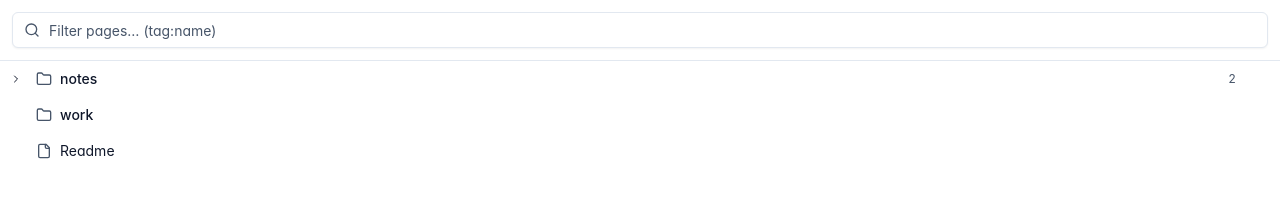
FolderTree › filters folders and pages by text and tag
Type "daily" into the field with placeholder "Filter pages… (tag:name)". click: (640, 30)
box: x1=12 y1=12 x2=1268 y2=48
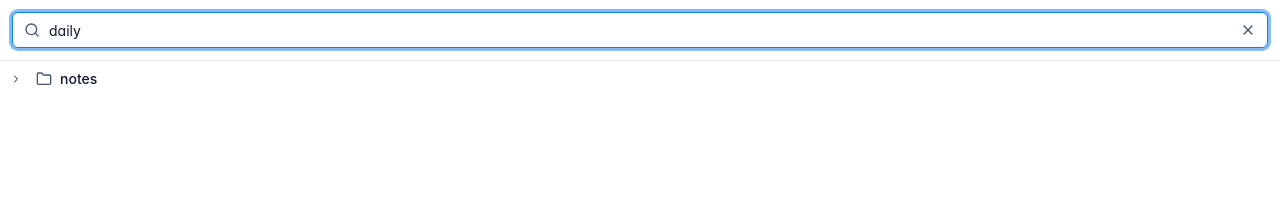
expect the button with aria-label "Open folder notes" is shown: met, box x1=32 y1=67 x2=1240 y2=91
expect the text "Open folder work" is gone: met
Click the button named "Expand folder". click: (16, 79)
box: x1=8 y1=71 x2=24 y2=87
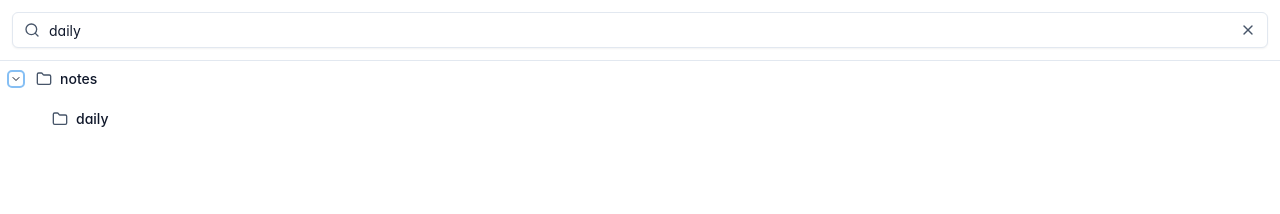
expect the text "Alpha" is not shown: met
expect the button with aria-label "Open folder daily" is shown: met, box x1=48 y1=107 x2=1240 y2=131
Replace the text in the field with placeholder "Filter pages… (tag:name)" with "tag:proj". click: (640, 30)
box: x1=12 y1=12 x2=1268 y2=48
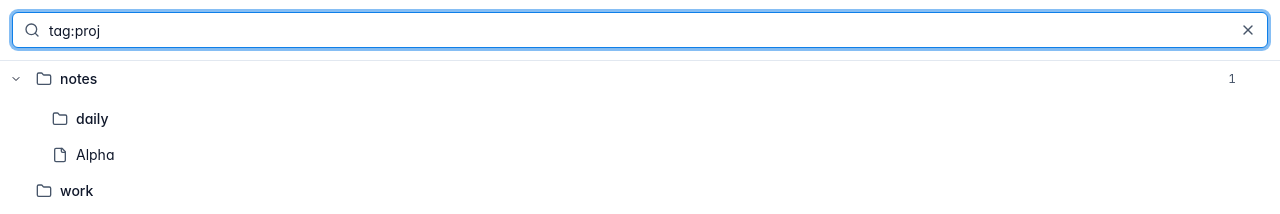
expect the text "Alpha" is shown: met, box x1=76 y1=145 x2=114 y2=165
expect the button "Beta" is gone: met
Replace the text in the field with placeholder "Filter pages… (tag:name)" with "zzz-nothing". click: (640, 30)
box: x1=12 y1=12 x2=1268 y2=48
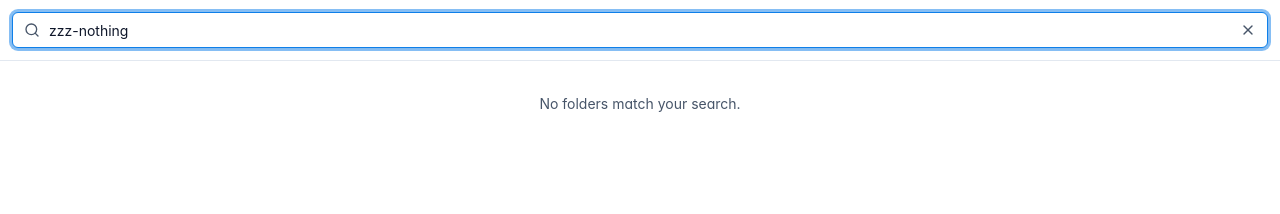
expect the text "No folders match your search." is shown: met, box x1=539 y1=93 x2=741 y2=116
